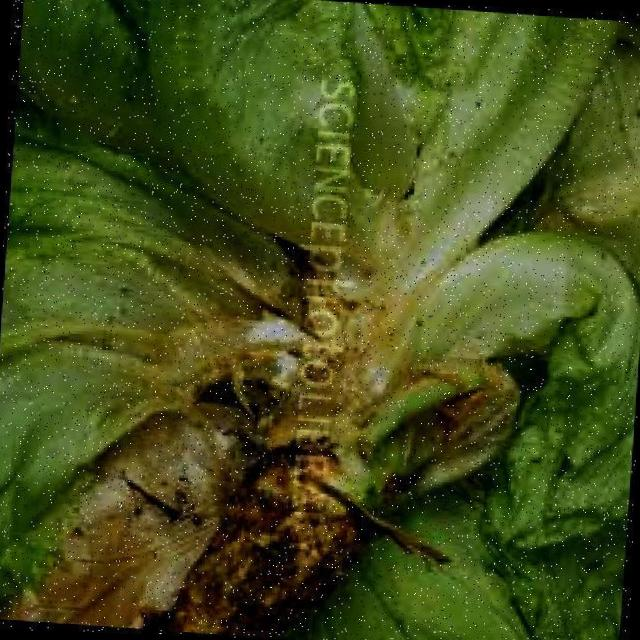Septoria_Blight_on_lettuce: (0, 139, 605, 640)
